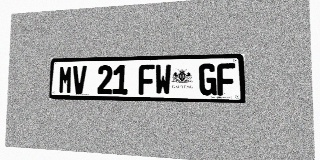1: (112, 65, 128, 94)
2: (97, 65, 112, 94)
F: (217, 63, 235, 96), (138, 64, 154, 95)
G: (199, 63, 217, 96)
M: (58, 66, 73, 94)
V: (72, 65, 87, 94)
W: (155, 64, 171, 95)
